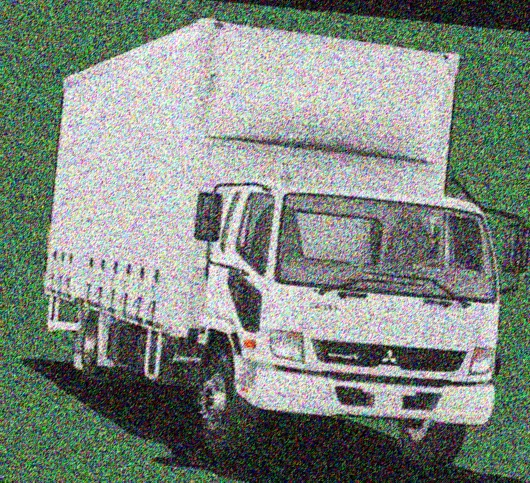truck: (25, 5, 528, 480)
